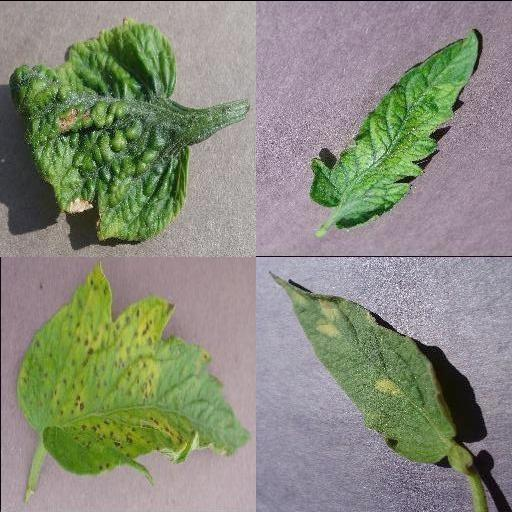Leaf Mold: (269, 270, 457, 462)
Mosaic Virus: (309, 28, 479, 230)
Septoria: (15, 263, 251, 474)
Yellow Leaf Curl Virus: (9, 18, 189, 242)
